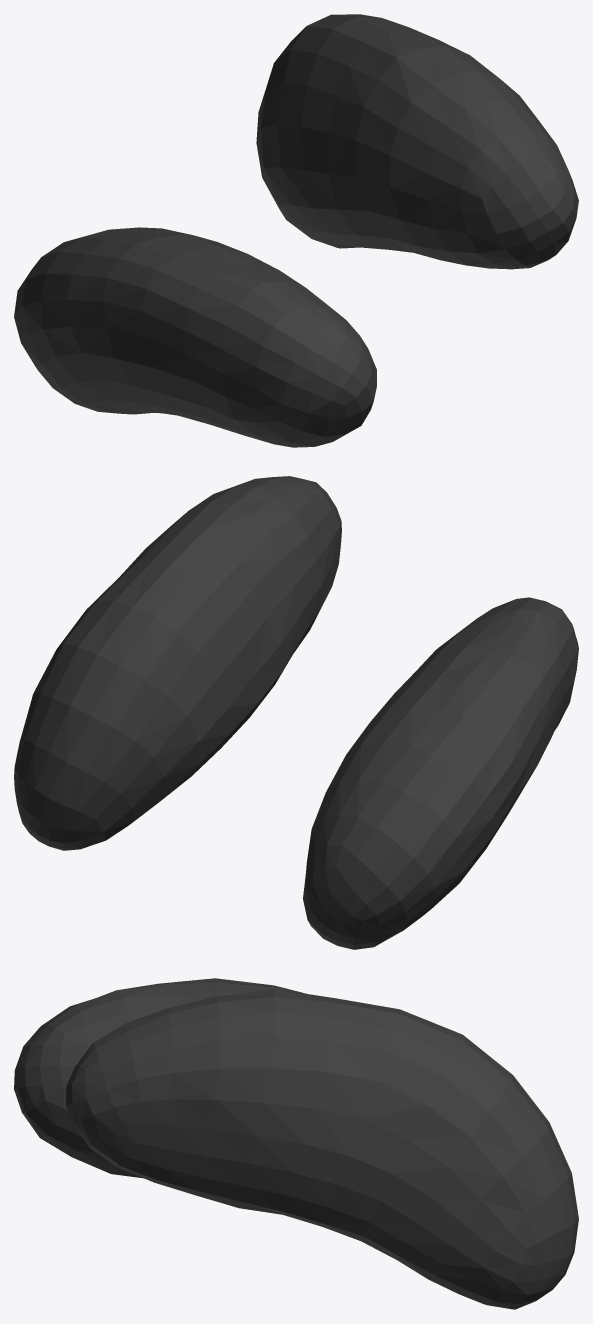
Rendered from Palmar_sesamoid_4.glb.
3 views of the same model, one above another, from view 1: azimuth 30°, elevation 25°; view 2: azimuth 150°, elevation 25°; view 3: azimuth 270°, elevation 25° (orthographic). The views are drawn at different scales.
Parts seen in each view (by area): view 1: Palmar_sesamoid_4; view 2: Palmar_sesamoid_4; view 3: Palmar_sesamoid_4.
Boxes of the visible parts, x1,y1,x2,y2 form: Palmar_sesamoid_4: (14,14,578,447); Palmar_sesamoid_4: (14,476,578,949); Palmar_sesamoid_4: (14,978,578,1309).
Size of the model in its own units: 0.1136 by 0.0876 by 0.1316.
Materials: 1 (1 with a texture image).
